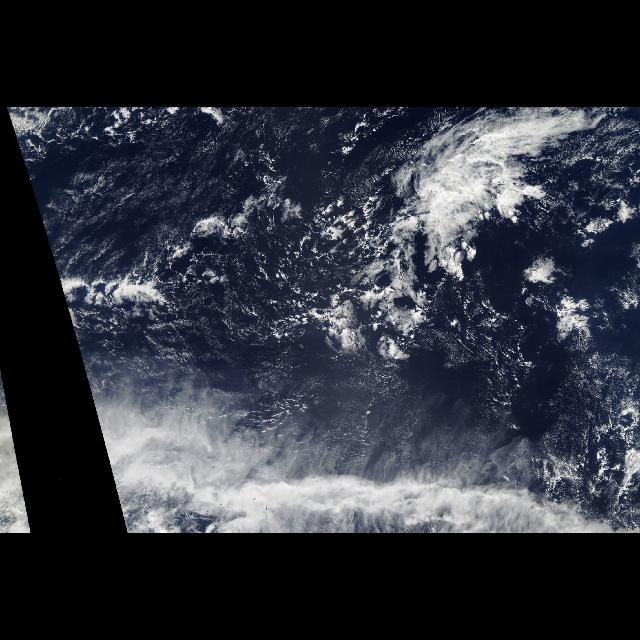Gravel: (146, 180, 414, 354)
Sugar: (63, 142, 237, 266)
